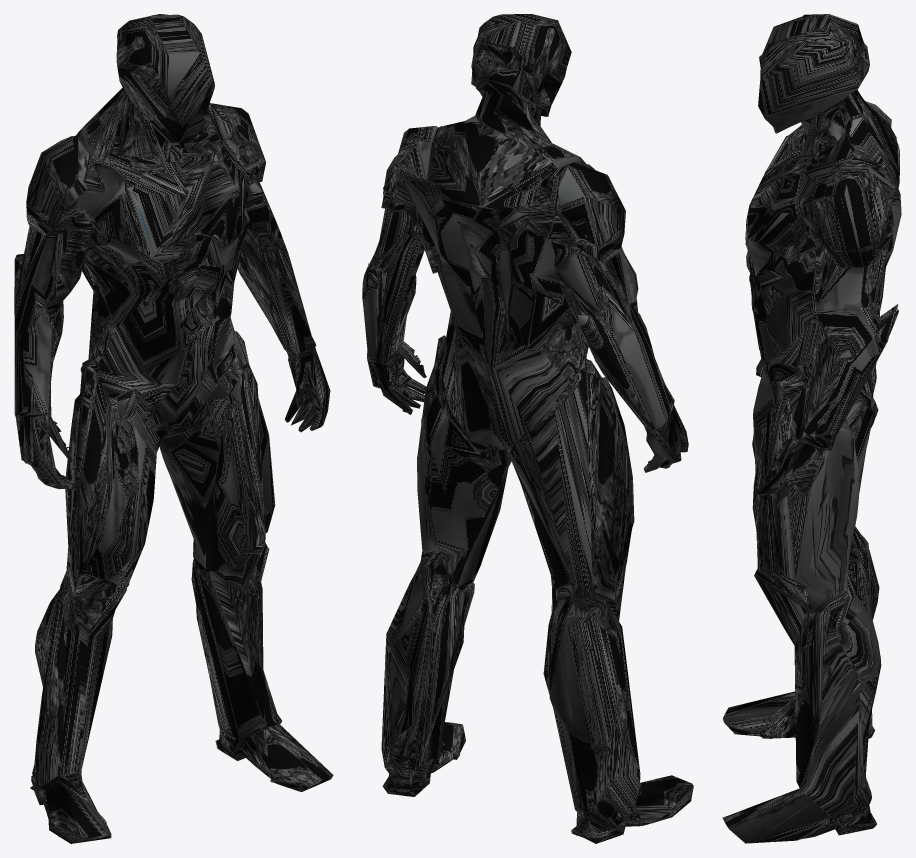
The model's file is suit_hero.glb.
3 views of the same model, side by side, from view 1: azimuth 30°, elevation 25°; view 2: azimuth 150°, elevation 25°; view 3: azimuth 270°, elevation 25° (orthographic). The views are drawn at different scales.
Visible parts, largest first — view 1: geometry_0; view 2: geometry_0; view 3: geometry_0.
Boxes of the visible parts, x1,y1,x2,y2 form: geometry_0: (14,14,333,843); geometry_0: (362,14,693,843); geometry_0: (722,14,901,843).
Size of the model in its own units: 0.7242 by 1.78 by 0.3784.
1 material, 1 textured.
